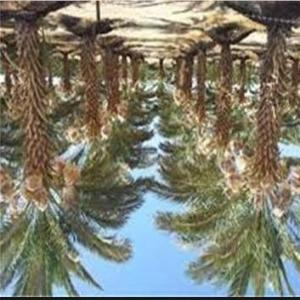palm tree: (0, 0, 158, 296), (150, 1, 299, 296)
